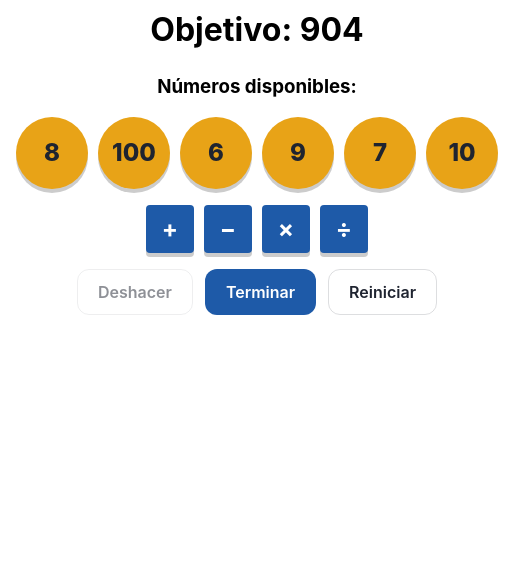
NumbersGame › does not let the player keep playing after finishing
Click the button "Terminar". click: (260, 292)
box: [205, 269, 316, 315]
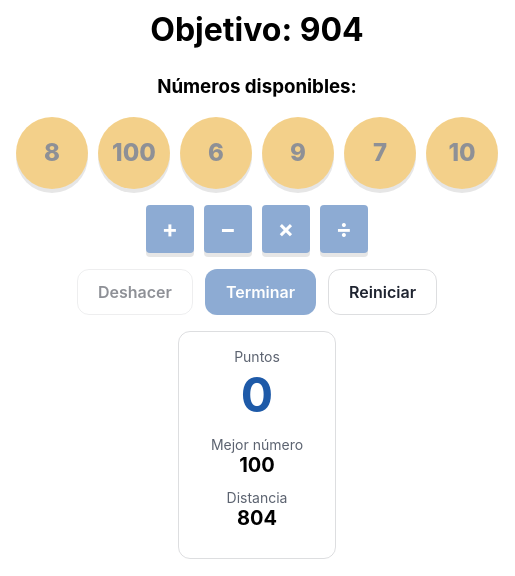
Now the button named "Sumar" is disabled, box [146, 205, 194, 253]
Now the button named "Restar" is disabled, box [204, 205, 252, 253]
Now the button named "Multiplicar" is disabled, box [262, 205, 310, 253]
